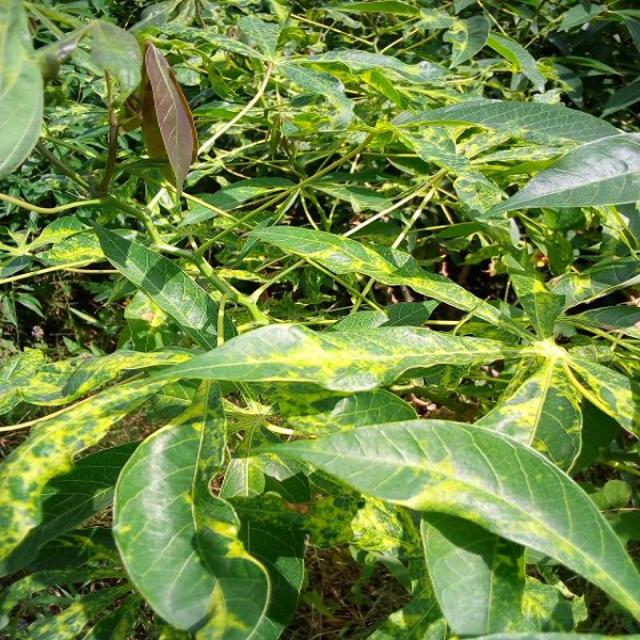cassava leaf: (1, 2, 638, 637), (250, 415, 638, 634)
